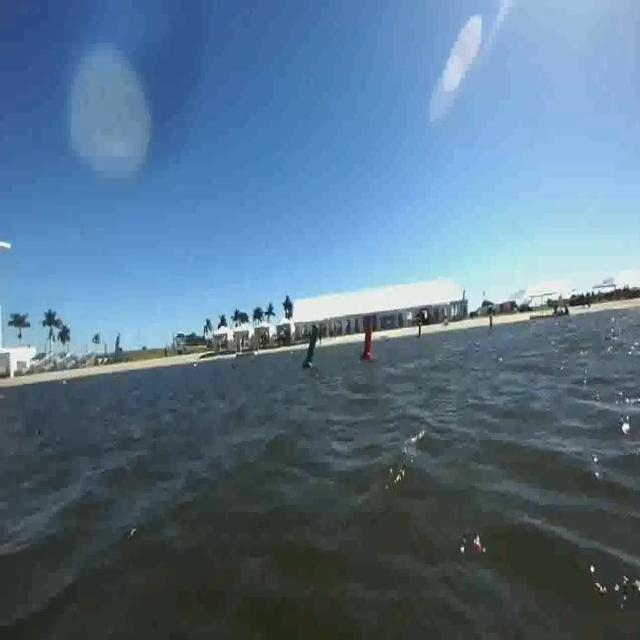green-column-buoy: (304, 319, 322, 376)
red-column-buoy: (354, 306, 378, 371)
